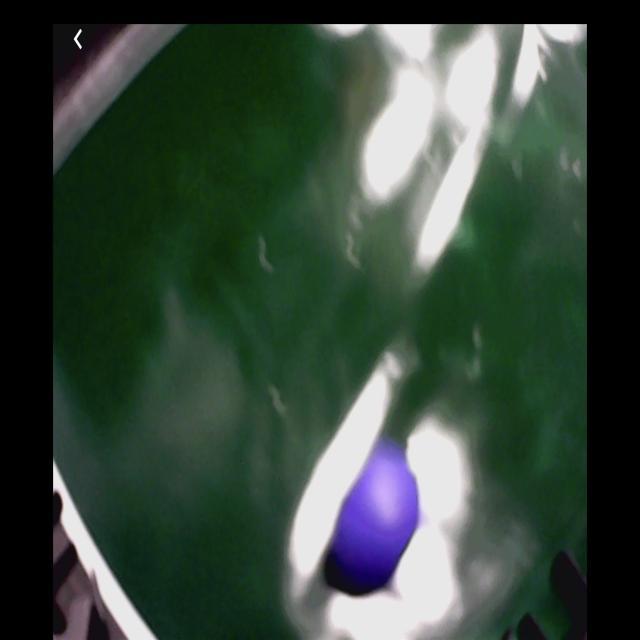ball: (339, 459, 417, 573)
